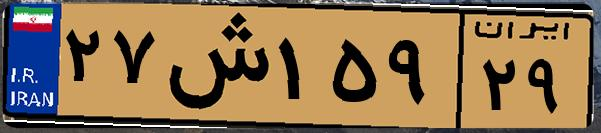1: (270, 28, 330, 110)
2: (57, 26, 110, 100), (475, 38, 525, 113)
5: (330, 28, 385, 110)
7: (110, 28, 158, 98)
9: (385, 28, 445, 110), (525, 38, 570, 115)
ش: (158, 12, 270, 120)
